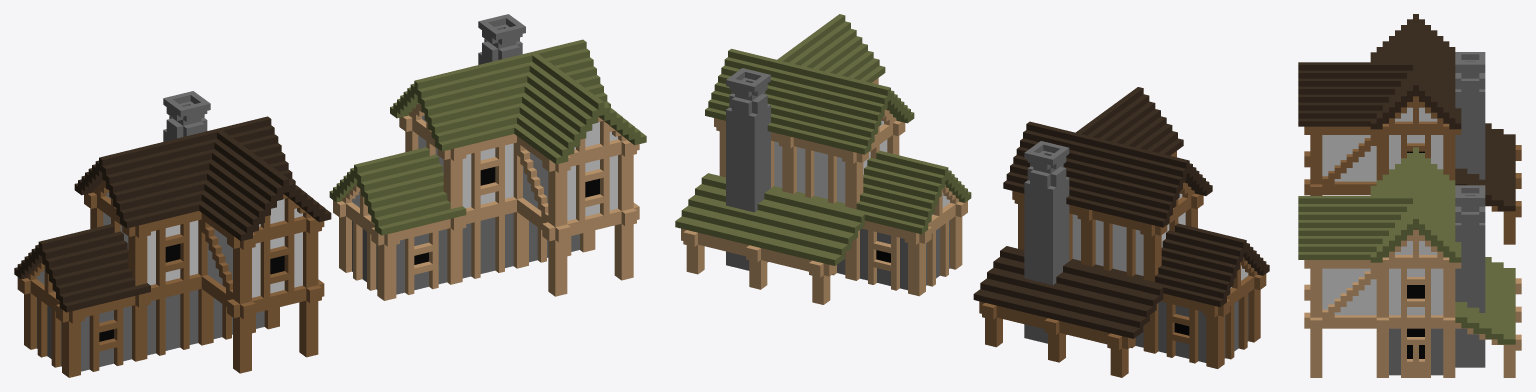
File: SM_Houses.fbx
3 views of the same model, side by side, from view 1: azimuth 30°, elevation 25°; view 2: azimuth 150°, elevation 25°; view 3: azimuth 270°, elevation 25° (orthographic). The views are drawn at different scales.
Visible parts, largest first — view 1: SM_House_02, SM_House_01; view 2: SM_House_02, SM_House_01; view 3: SM_House_02, SM_House_01.
Part boxes in pixels (bbox=[...]): SM_House_02: bbox=[329, 14, 646, 300]; SM_House_01: bbox=[14, 91, 331, 377]; SM_House_02: bbox=[675, 14, 971, 304]; SM_House_01: bbox=[973, 87, 1269, 377]; SM_House_02: bbox=[1298, 147, 1521, 377]; SM_House_01: bbox=[1298, 14, 1521, 244].
Size of the model in its own units: 44.44 by 18.21 by 15.26.
